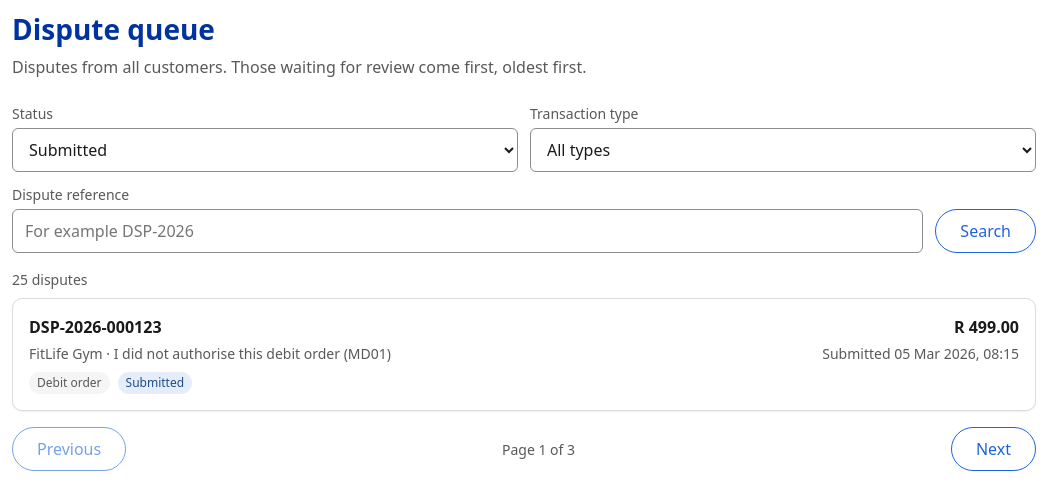
agent dispute queue › pages through the queue, keeping the filters
Expected: the list named "Disputes" is shown, [12,298,1036,411]
Expected: the text "Page 1 of 3" is shown, [502,438,575,460]
Step 1. Click the button "Next" → click(993, 449), box [951,427,1036,471]
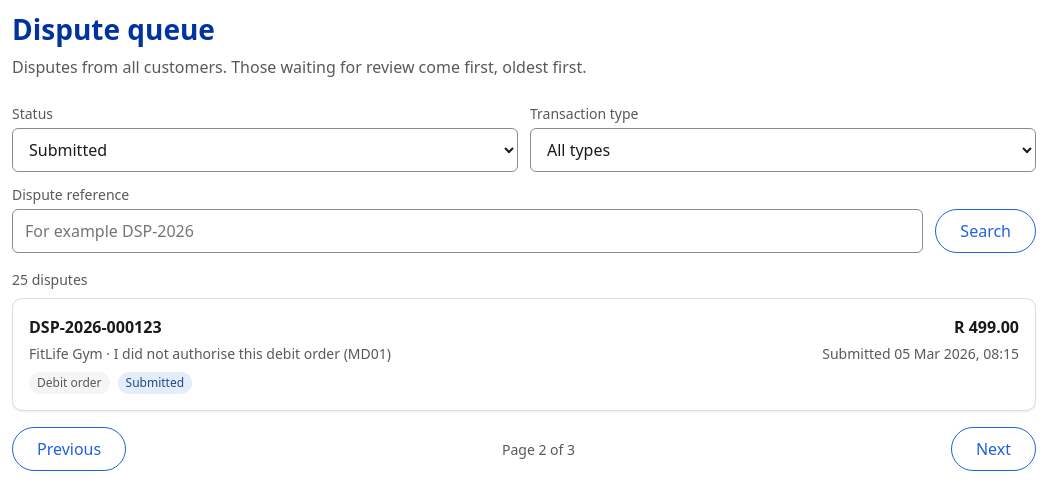
Expected: the text "Page 2 of 3" is shown, [502,438,575,460]
Step 2. Click the button "Previous" → click(69, 449), box [12,427,126,471]
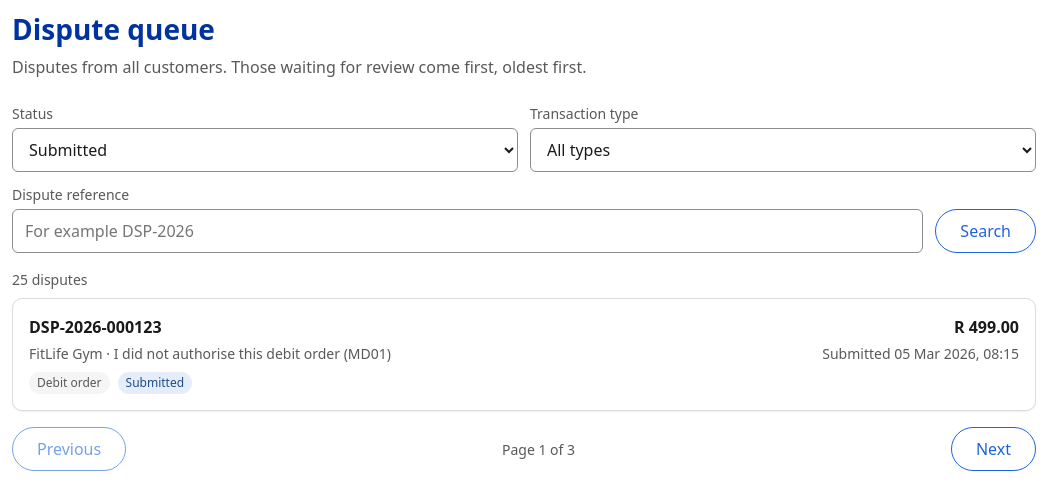
Expected: the text "Page 1 of 3" is shown, [502,438,575,460]
